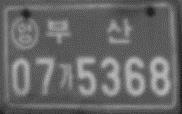0: (9, 55, 31, 96)
3: (99, 54, 122, 98)
5: (74, 55, 99, 97)
6: (123, 55, 145, 98)
7: (32, 54, 55, 96)
8: (149, 55, 172, 96)
가: (56, 61, 76, 91)
부산_D: (46, 14, 133, 47)
영: (11, 15, 40, 51)
